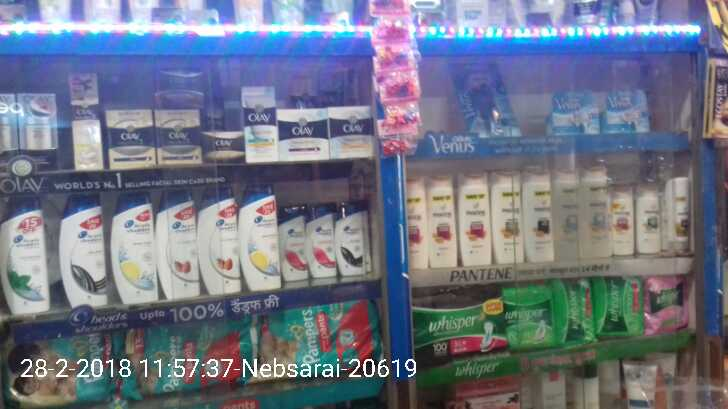venus: (460, 64, 511, 137), (552, 92, 598, 131), (604, 90, 647, 131)
